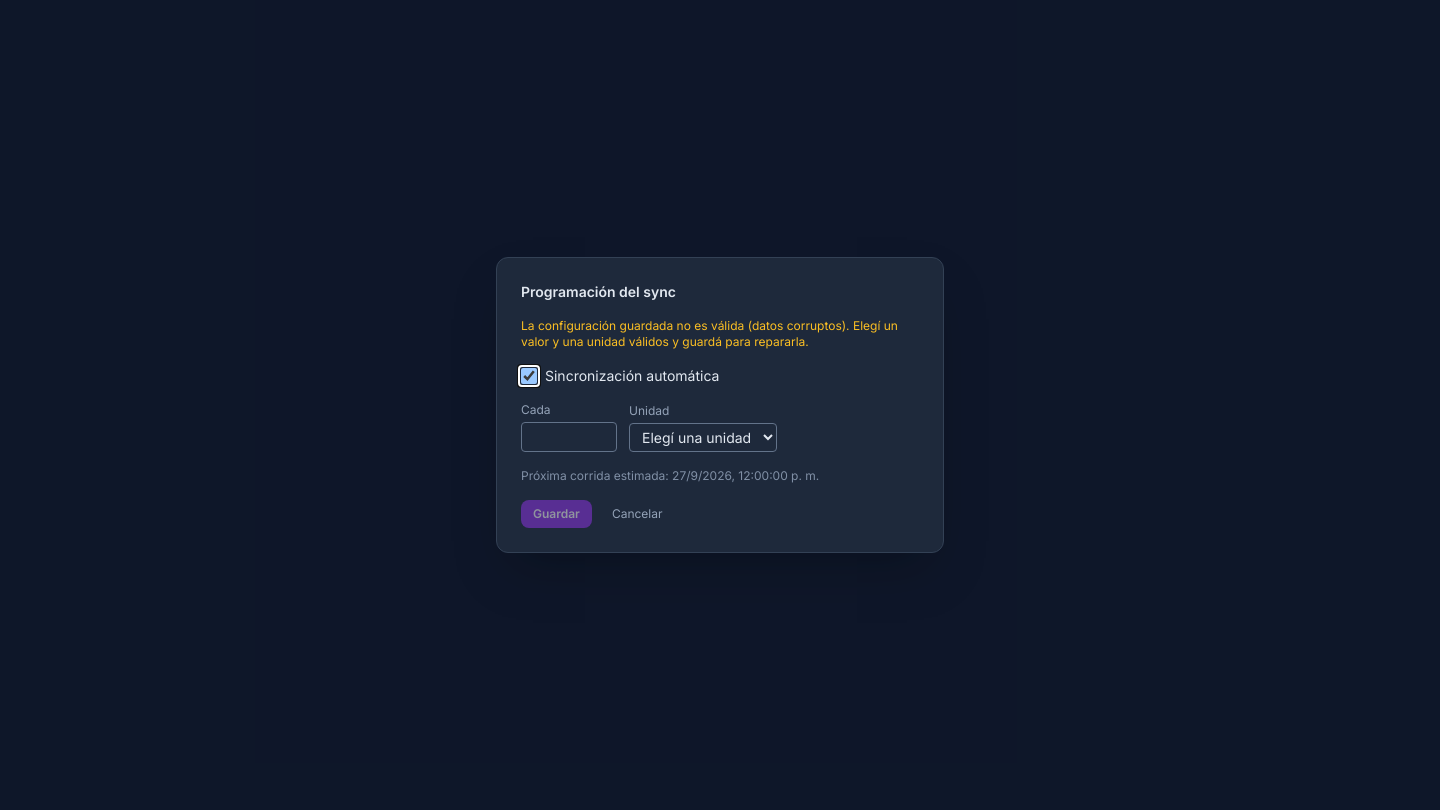
DialogoProgramacionSync › MINOR-3: elegir una unidad válida Y un valor habilita Guardar
Check: the button "Guardar" is disabled, box [521,500,592,528]
Select "días" in the dropdown at (703, 438), box [629,423,777,452]
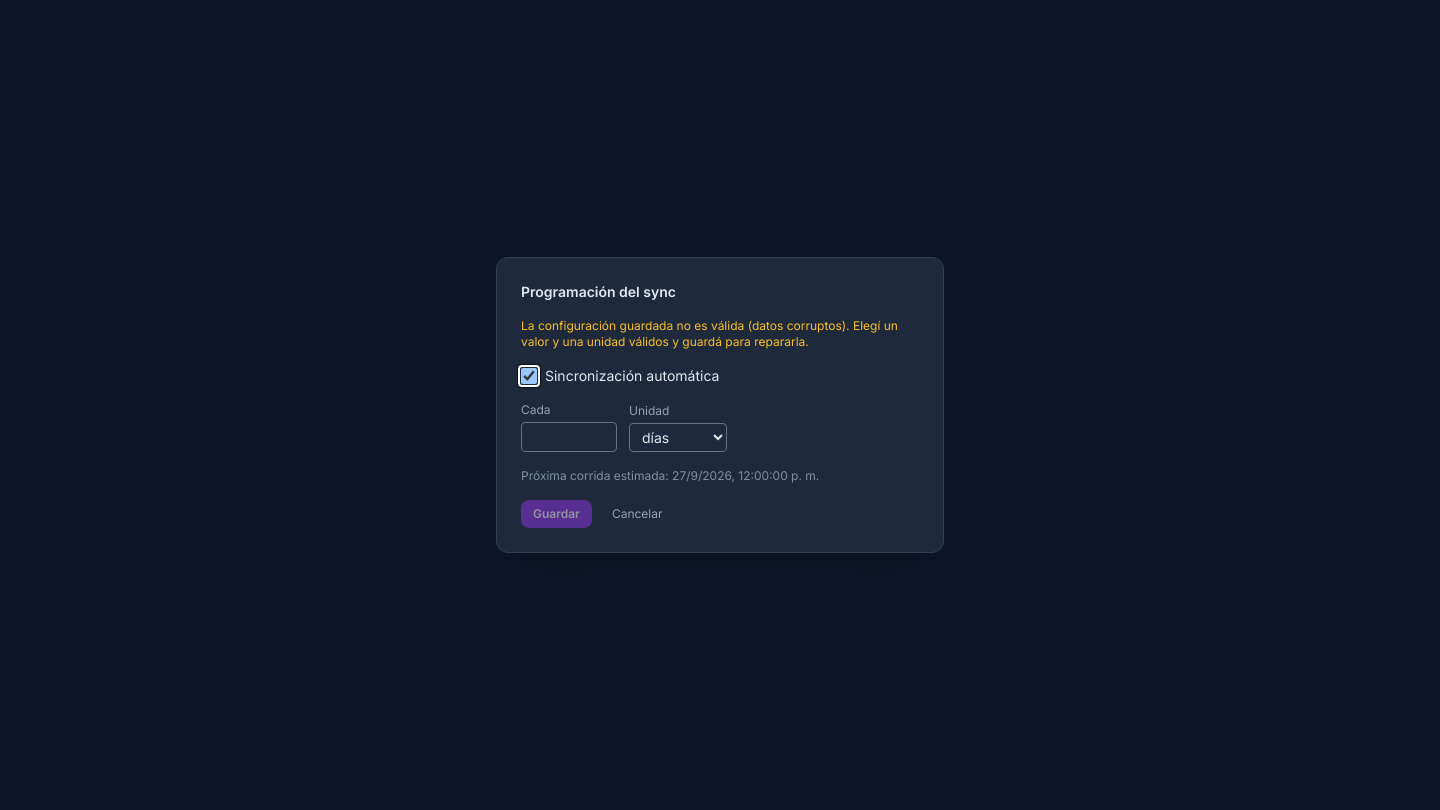
Check: the button "Guardar" is disabled, box [521,500,592,528]
Type "3" into the number field at (569, 437), box [521,422,617,452]
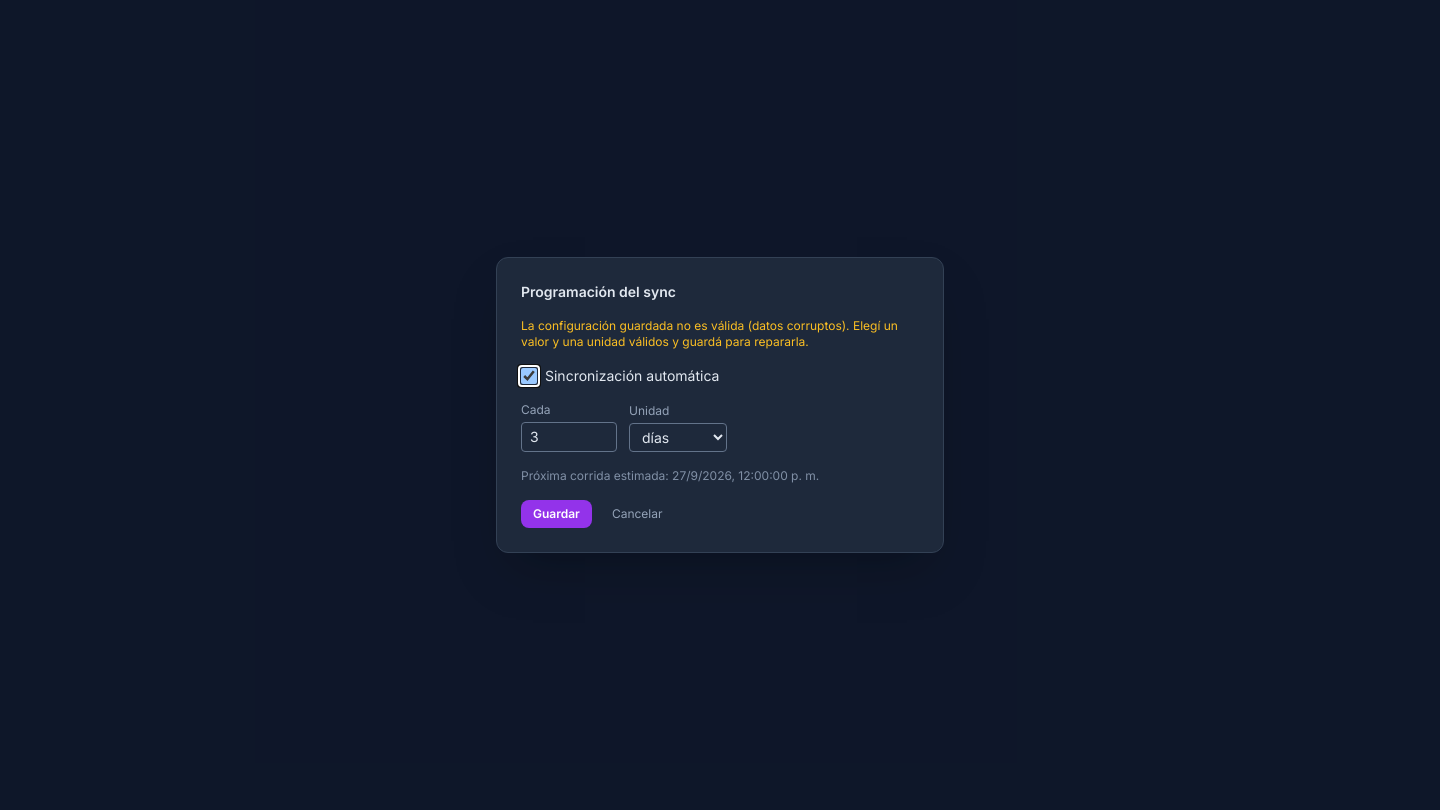
Check: the button "Guardar" is enabled, box [521,500,592,528]
